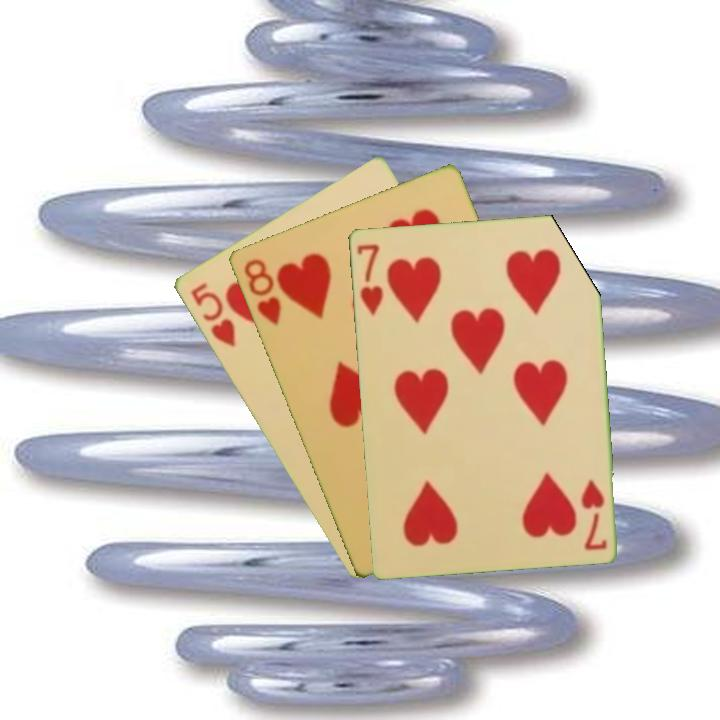5h: (186, 278, 238, 351)
7h: (353, 240, 386, 319), (577, 475, 610, 553)
8h: (239, 255, 284, 329)
